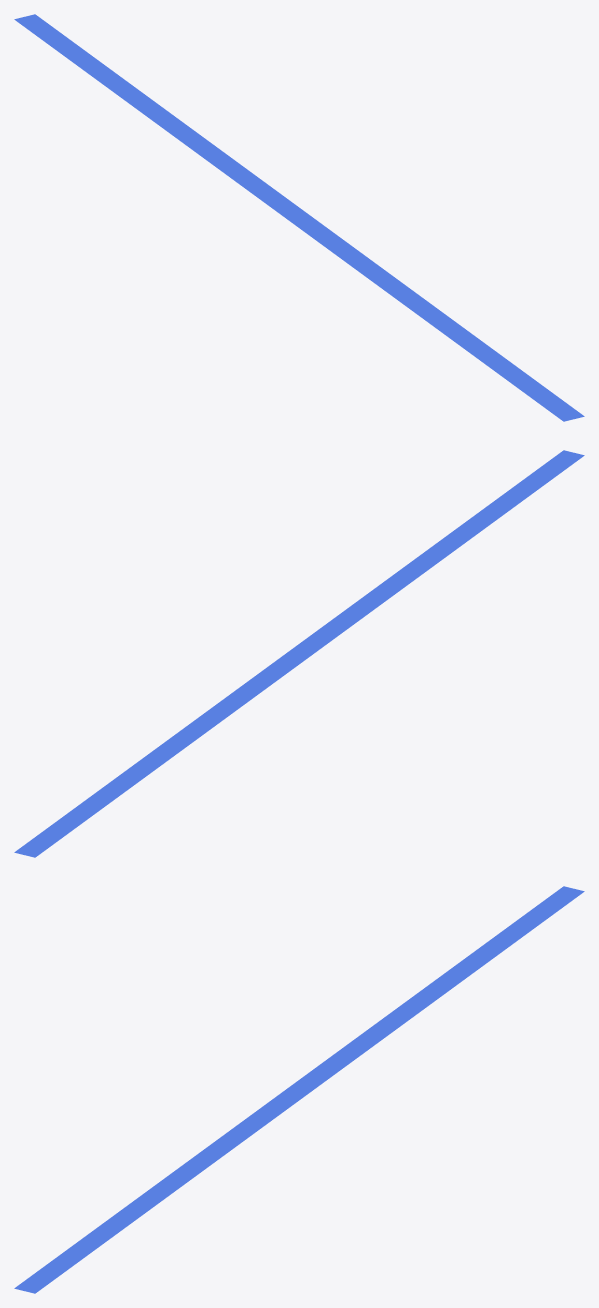
The model's file is water.glb.
3 views of the same model, one above another, from view 1: azimuth 30°, elevation 25°; view 2: azimuth 150°, elevation 25°; view 3: azimuth 330°, elevation 25° (orthographic).
Visible parts, largest first — view 1: Plane.003, Plane.001, Plane.002; view 2: Plane.001, Plane.002, Plane.003; view 3: Plane.003, Plane.001, Plane.002.
Part boxes in pixels (box(x1,y1,x2,y2)): Plane.003: box(197, 148, 401, 287); Plane.001: box(14, 14, 218, 153); Plane.002: box(381, 282, 584, 421); Plane.001: box(14, 718, 218, 857); Plane.002: box(381, 450, 584, 589); Plane.003: box(197, 584, 401, 723); Plane.003: box(197, 1020, 401, 1159); Plane.001: box(380, 886, 584, 1025); Plane.002: box(14, 1154, 217, 1293).
Size of the model in its own units: 20 by 0 by 896.
